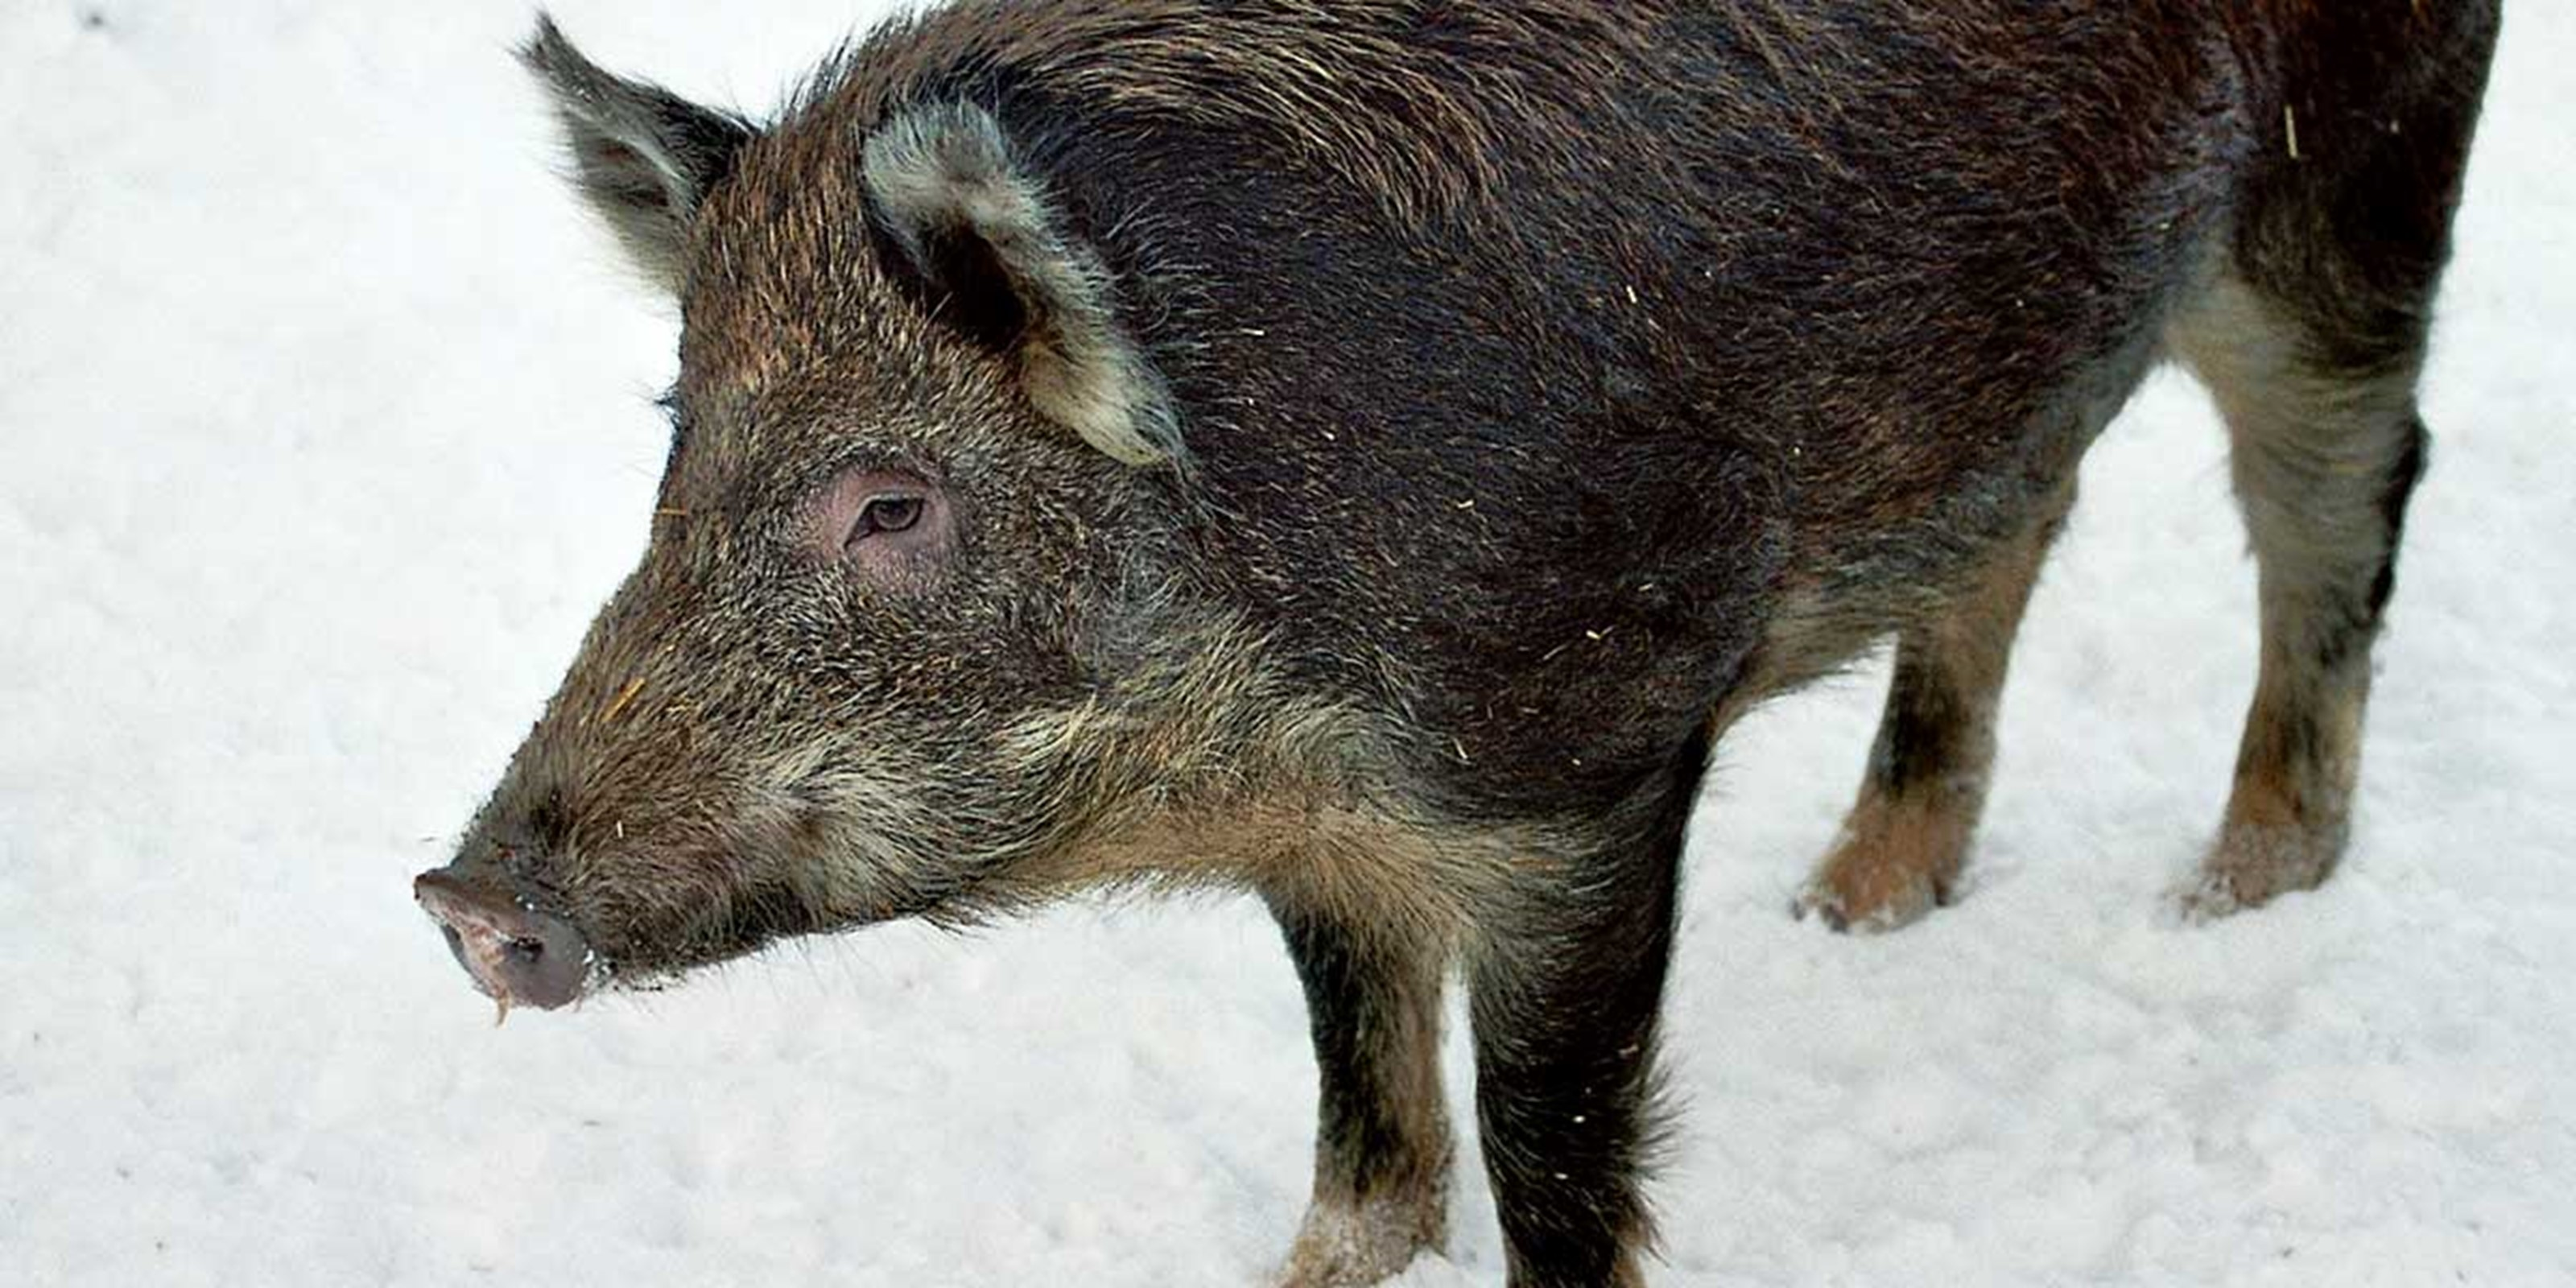pig: (407, 7, 1291, 1012)
